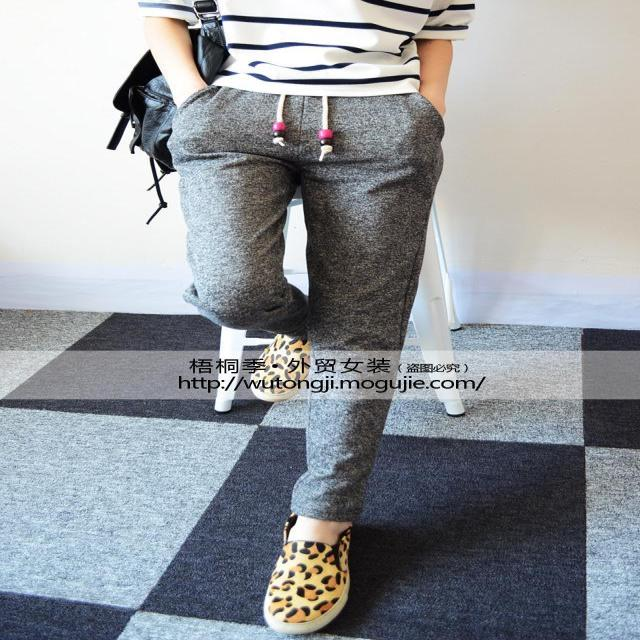long sleeve top: (187, 2, 432, 98)
trousers: (182, 67, 431, 520)
